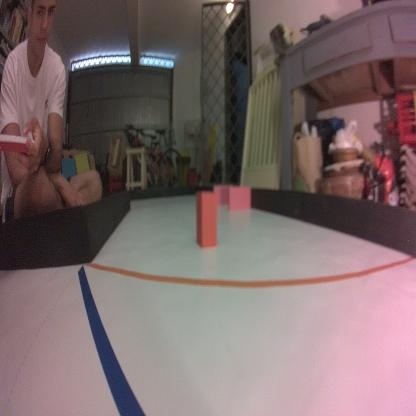magenta: (227, 186, 251, 212), (214, 183, 233, 204)
red: (195, 188, 218, 249)
